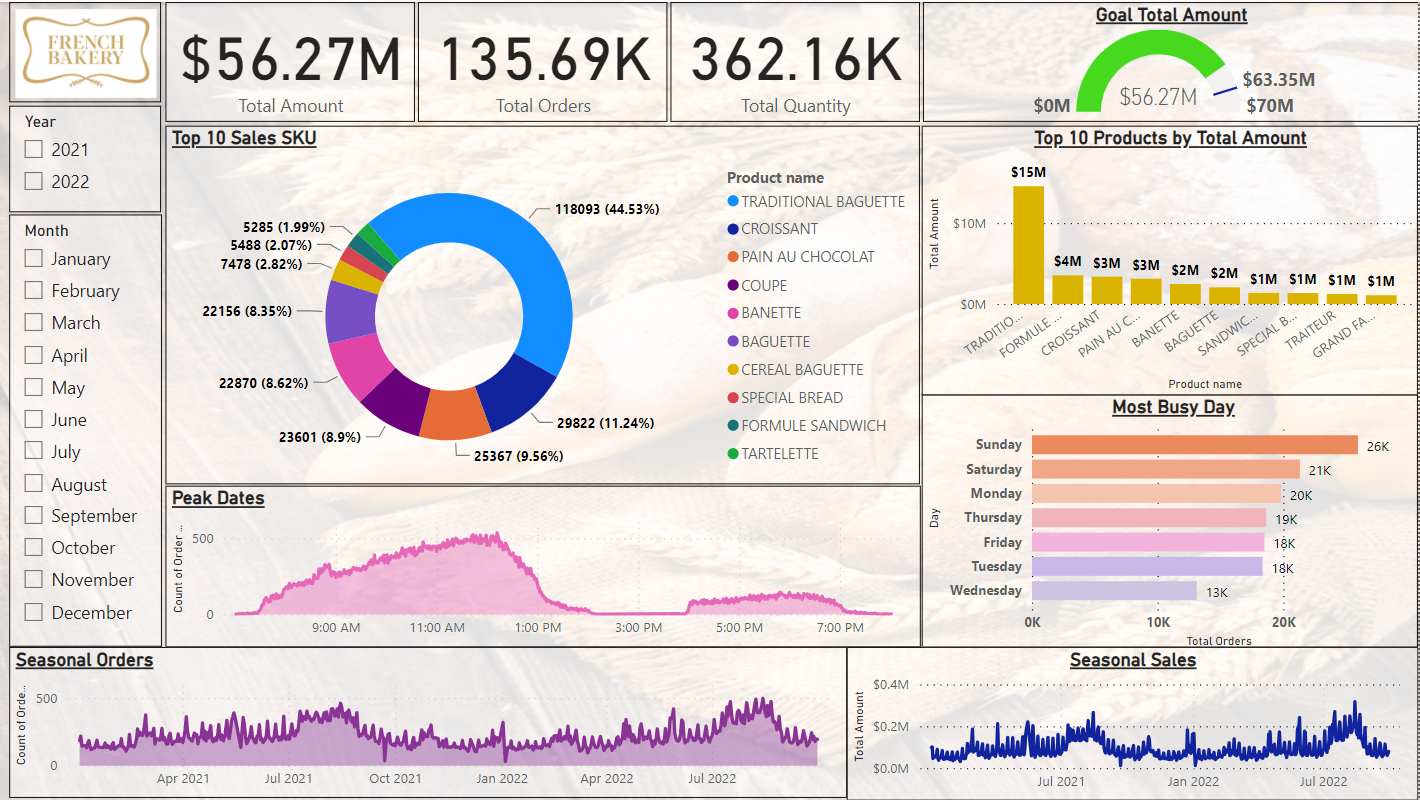

This screenshot's page, from the dashboard's own definition file:
{"tool":"powerbi","page":{"name":"Sales Analysis","canvas":[1280,720],"ordinal":0},"visuals":[{"type":"image","box":[9.6,0,137.1,90.5],"z":0},{"type":"slicer","fields":{"Values":["DimDates.SystemDate.Variation.Date Hierarchy.Month"]},"box":[10.1,191.5,137.5,389.9],"z":1000},{"type":"slicer","fields":{"Values":["DimDates.SystemDate.Variation.Date Hierarchy.Year"]},"box":[9.6,93.2,137.1,96],"z":2000},{"type":"donutChart","title":"Top 10 Sales SKU","fields":{"Y":["Sum(Bakery sales.Quantity)"],"Category":["Bakery sales.Product name"]},"box":[150.8,111.1,680,323.6],"z":3000},{"type":"card","fields":{"Values":["Bakery sales.Total Amount"]},"box":[150.8,0,224.9,108.3],"z":4000},{"type":"card","fields":{"Values":["Count(Bakery sales.Order number)"]},"box":[378.4,0,224.9,108.3],"z":5000},{"type":"card","fields":{"Values":["Sum(Bakery sales.Quantity)"]},"box":[606,0,224.9,108.3],"z":6000},{"type":"areaChart","title":"Seasonal Orders","fields":{"Y":["Count(Bakery sales.Order number)"],"Category":["Bakery sales.Order date.Variation.Date Hierarchy.Year"]},"box":[10.1,581.4,754.9,136.3],"z":7000},{"type":"areaChart","title":"Peak Dates","fields":{"Y":["Count(Bakery sales.Order number)"],"Category":["Bakery sales.time"]},"box":[151,436.1,680.6,145.4],"z":8000},{"type":"gauge","title":"Goal Total Amount","fields":{"Y":["Bakery sales.Total Amount"]},"box":[833.6,0,447,108.3],"z":9000},{"type":"clusteredColumnChart","title":"Top 10 Products by Total Amount","fields":{"Category":["Bakery sales.Product name"],"Y":["Bakery sales.Total Amount"]},"box":[832.9,111.4,447.1,242.9],"z":10000},{"type":"lineChart","title":"Seasonal Sales","fields":{"Category":["Bakery sales.Order date.Variation.Date Hierarchy.Month"],"Y":["Bakery sales.Total Amount"]},"box":[765.1,581.4,514.9,138.6],"z":11000},{"type":"clusteredBarChart","title":"Most Busy Day","fields":{"Category":["DimDates.DayName"],"Y":["Count(Bakery sales.Order number)"]},"box":[832.7,353.8,447.3,227.6],"z":12000}]}

Visuals, with their boxes in screenshot pixels (x1, y1, x2, y2), scaled from the page's 1280x720 canvas onto the 1420x800 screenshot:
image: [11,0,163,101]
slicer - DimDates.SystemDate.Variation.Date Hierarchy.Month: [11,213,164,646]
slicer - DimDates.SystemDate.Variation.Date Hierarchy.Year: [11,104,163,210]
"Top 10 Sales SKU" donutChart: [167,123,922,483]
card - Bakery sales.Total Amount: [167,0,417,120]
card - Count(Bakery sales.Order number): [420,0,669,120]
card - Sum(Bakery sales.Quantity): [672,0,922,120]
"Seasonal Orders" areaChart: [11,646,849,797]
"Peak Dates" areaChart: [168,485,923,646]
"Goal Total Amount" gauge: [925,0,1419,120]
"Top 10 Products by Total Amount" clusteredColumnChart: [924,124,1419,394]
"Seasonal Sales" lineChart: [849,646,1419,799]
"Most Busy Day" clusteredBarChart: [924,393,1419,646]
